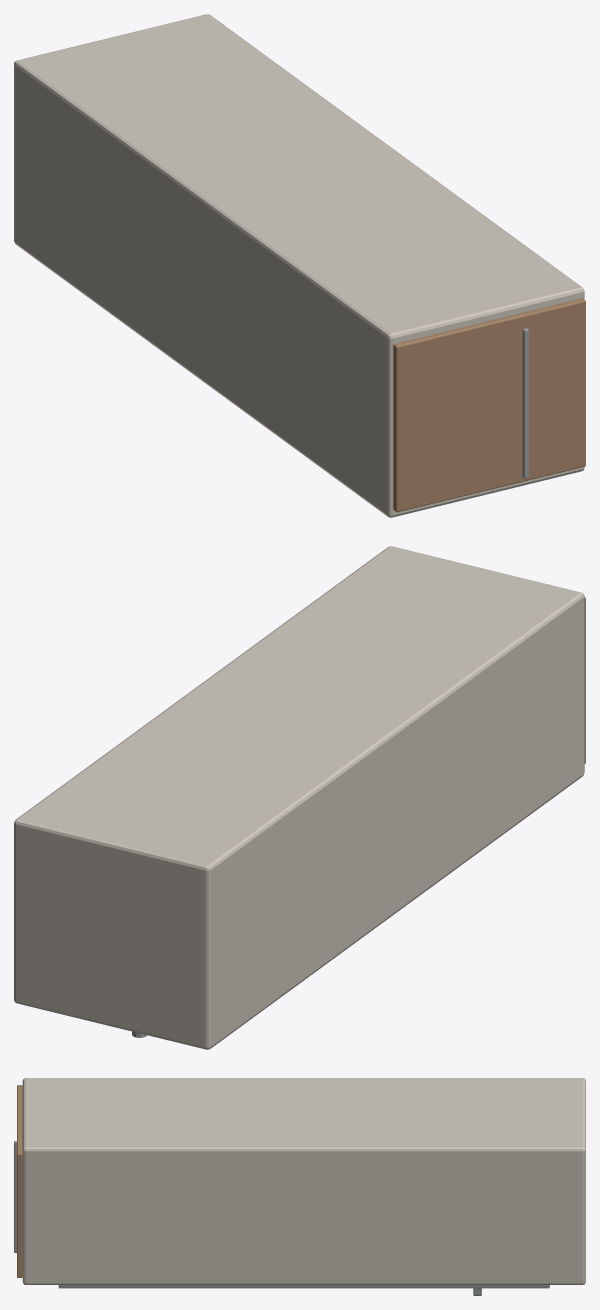
The model's file is trailer.glb.
3 renders of one model, top to bottom at view 1: azimuth 30°, elevation 25°; view 2: azimuth 150°, elevation 25°; view 3: azimuth 270°, elevation 25°, orthographic. The views are drawn at different scales.
Parts seen in each view (by area): view 1: boxbody, doors, door_bar; view 2: boxbody; view 3: boxbody, underframe, doors, door_bar.
Boxes of the visible parts, x1,y1,x2,y2 form: boxbody: [14, 14, 584, 517]; doors: [393, 298, 585, 512]; door_bar: [522, 328, 528, 478]; boxbody: [14, 546, 584, 1049]; boxbody: [22, 1078, 585, 1284]; underframe: [58, 1285, 549, 1288]; doors: [17, 1085, 22, 1277]; door_bar: [14, 1141, 16, 1252].
Size of the model in its own units: 2.35 by 2.45 by 7.92.
